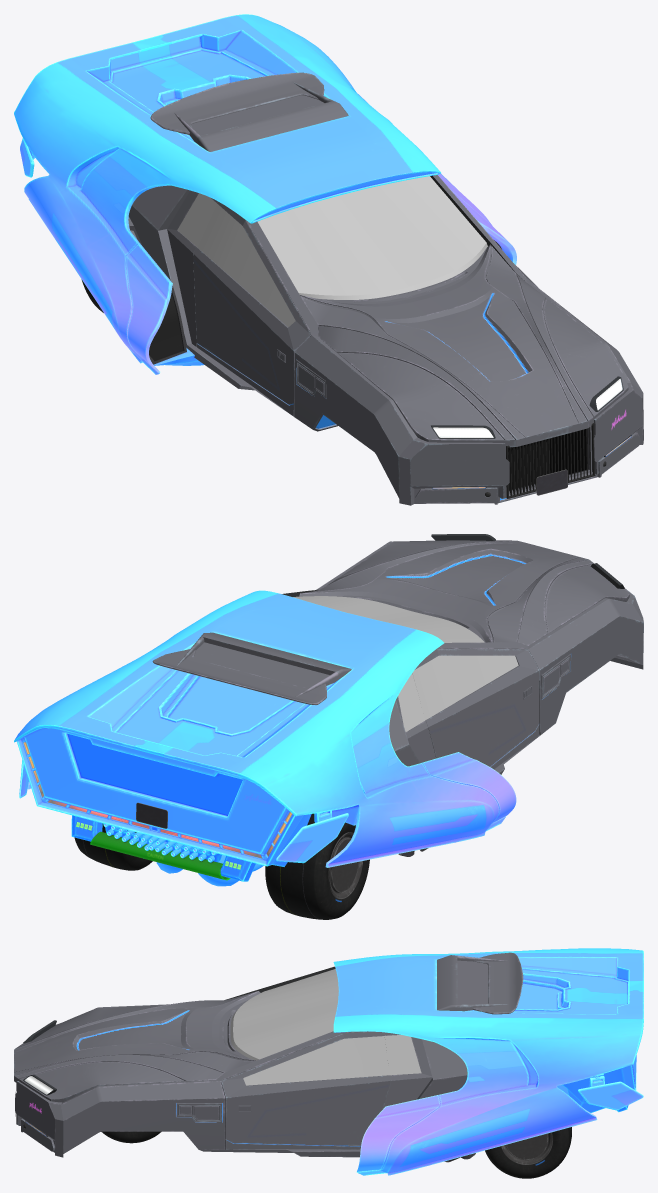
Rendered from SK_HoverVehicle_AsStaticMesh.fbx.
3 renders of one model, top to bottom at view 1: azimuth 30°, elevation 25°; view 2: azimuth 150°, elevation 25°; view 3: azimuth 270°, elevation 25°, orthographic. The views are drawn at different scales.
Visible parts, largest first — view 1: SK_HoverVehicle_AsStaticMesh_LOD0; view 2: SK_HoverVehicle_AsStaticMesh_LOD0; view 3: SK_HoverVehicle_AsStaticMesh_LOD0.
Part boxes in pixels (x1,y1,x2,y2): SK_HoverVehicle_AsStaticMesh_LOD0: [14, 14, 643, 505]; SK_HoverVehicle_AsStaticMesh_LOD0: [14, 534, 643, 919]; SK_HoverVehicle_AsStaticMesh_LOD0: [14, 948, 643, 1178].
Size of the model in its own units: 250 by 466 by 131.
